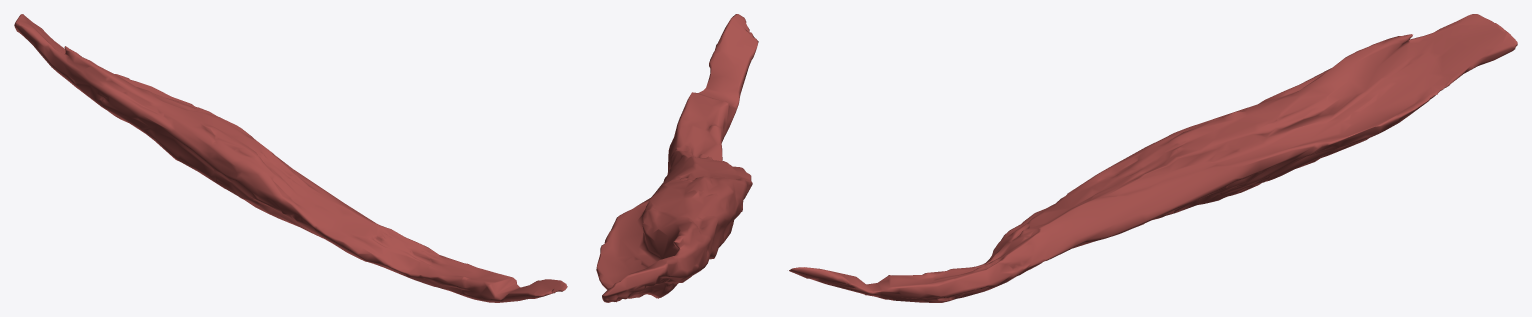
File: FMA37472.glb
3 renders of one model, left to right at view 1: azimuth 30°, elevation 25°; view 2: azimuth 150°, elevation 25°; view 3: azimuth 270°, elevation 25°, orthographic. The views are drawn at different scales.
Parts seen in each view (by area): view 1: FMA37472; view 2: FMA37472; view 3: FMA37472.
Part boxes in pixels (x1=…): FMA37472: x1=14, y1=14, x2=567, y2=302; FMA37472: x1=596, y1=14, x2=758, y2=302; FMA37472: x1=789, y1=14, x2=1517, y2=302.
Bounding box in the file's own units: 0.0318 × 0.0179 × 0.0706.
